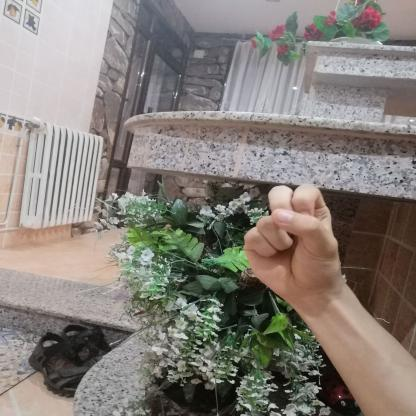QAAF: (229, 176, 354, 308)
